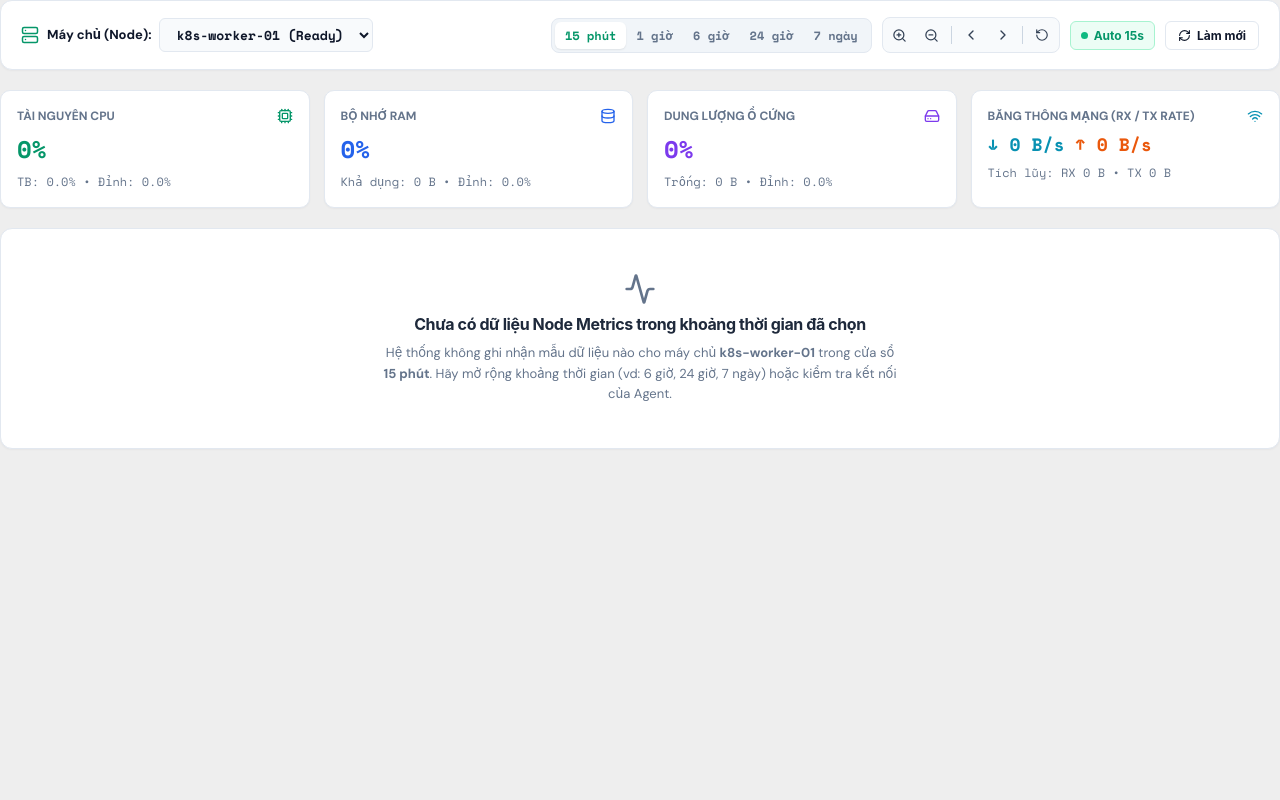
Test: Task 4.4 – Node Metrics Dashboard Charts & Utilities Suite › 6. Displays Empty State when Backend returns 0 metrics and Error State with Retry on failure
The width and height of the screenshot is (1280, 800).
Expected: the element with test id "node-metrics-empty-state" is shown, [0,228,1279,449]
Click the button with test id "node-metrics-refresh-btn" at (1212, 35), box [1165,20,1259,50]
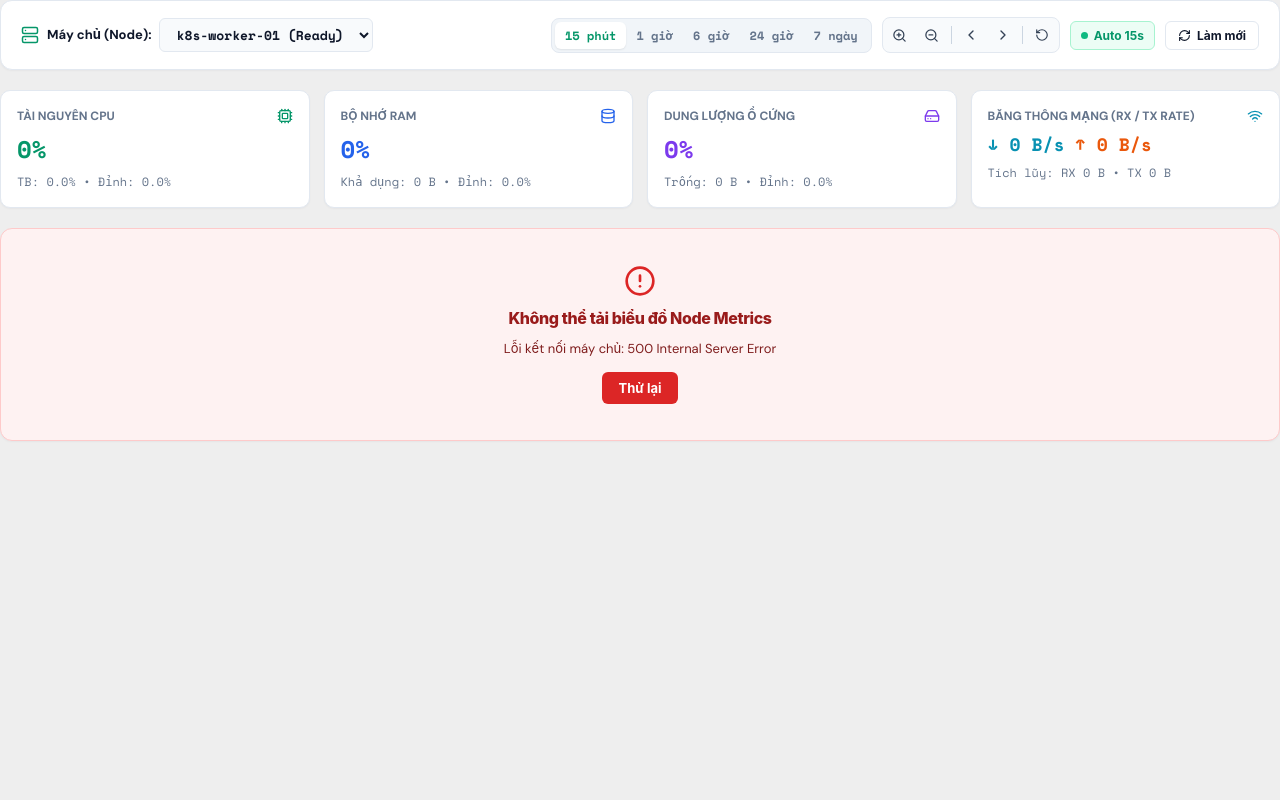
Expected: the element with test id "node-metrics-error-state" is shown, [0,228,1279,440]
Expected: the text "Lỗi kết nối máy chủ: 500 Internal Server Error" is shown, [504,339,776,360]
Click the button with test id "node-metrics-retry-btn" at (640, 388), box [602,372,678,404]
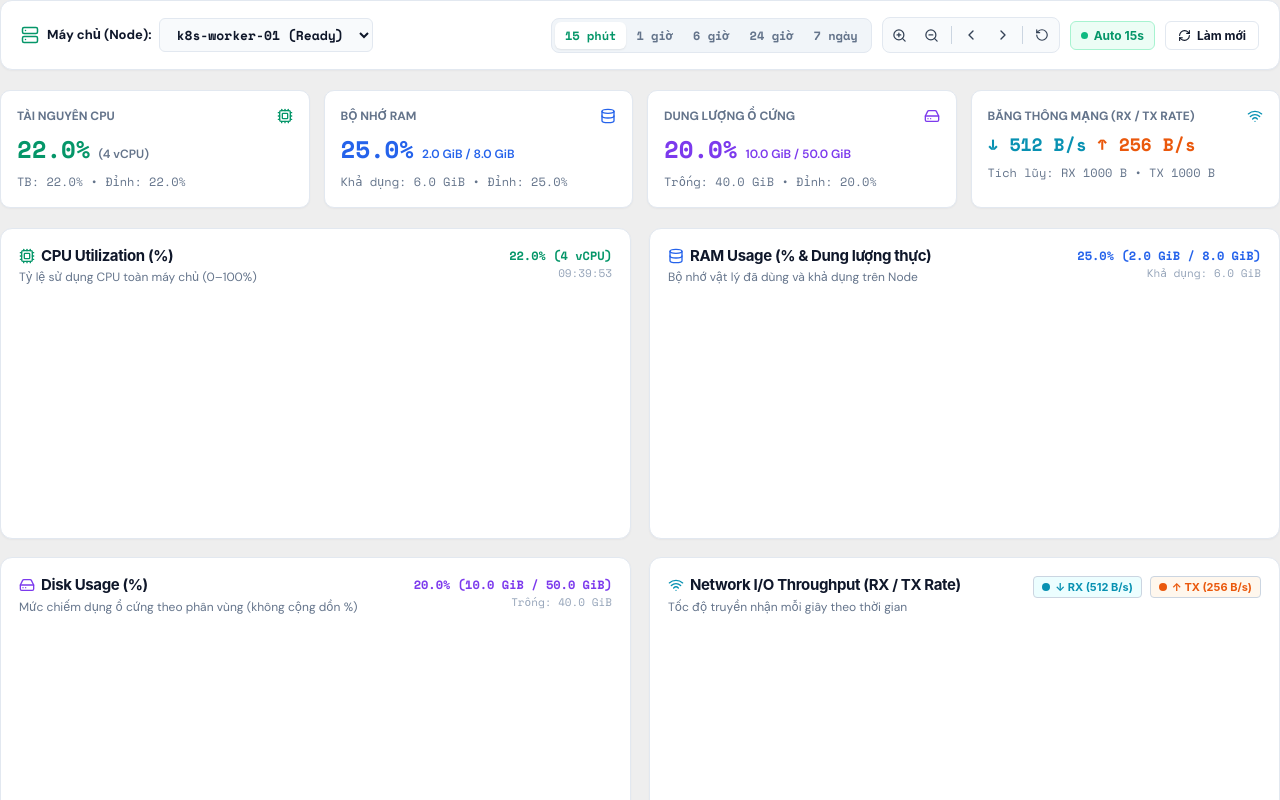
Expected: the element with test id "chart-panel-cpu" is shown, [0,228,631,539]
